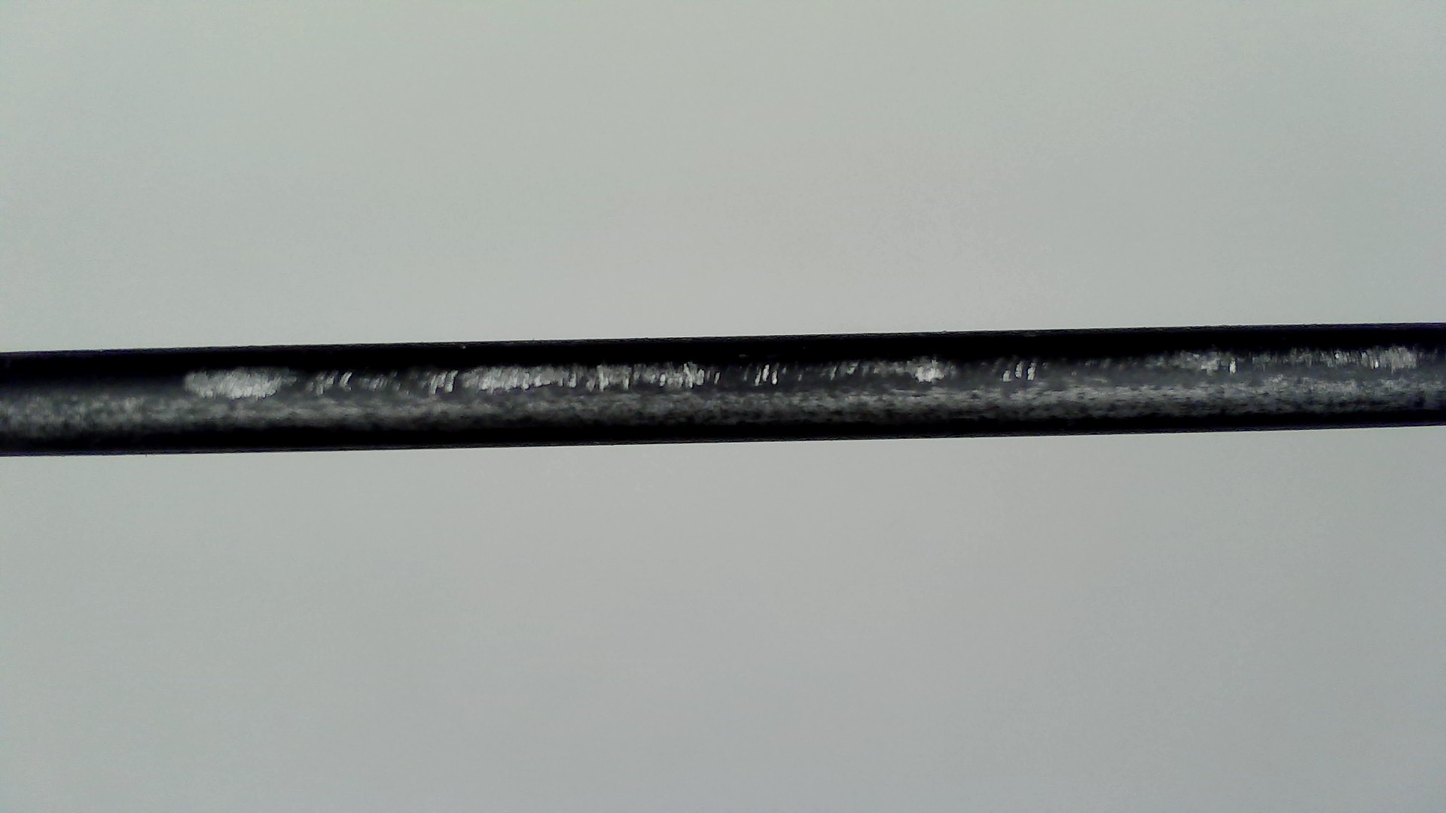defect: (161, 340, 1424, 412)
